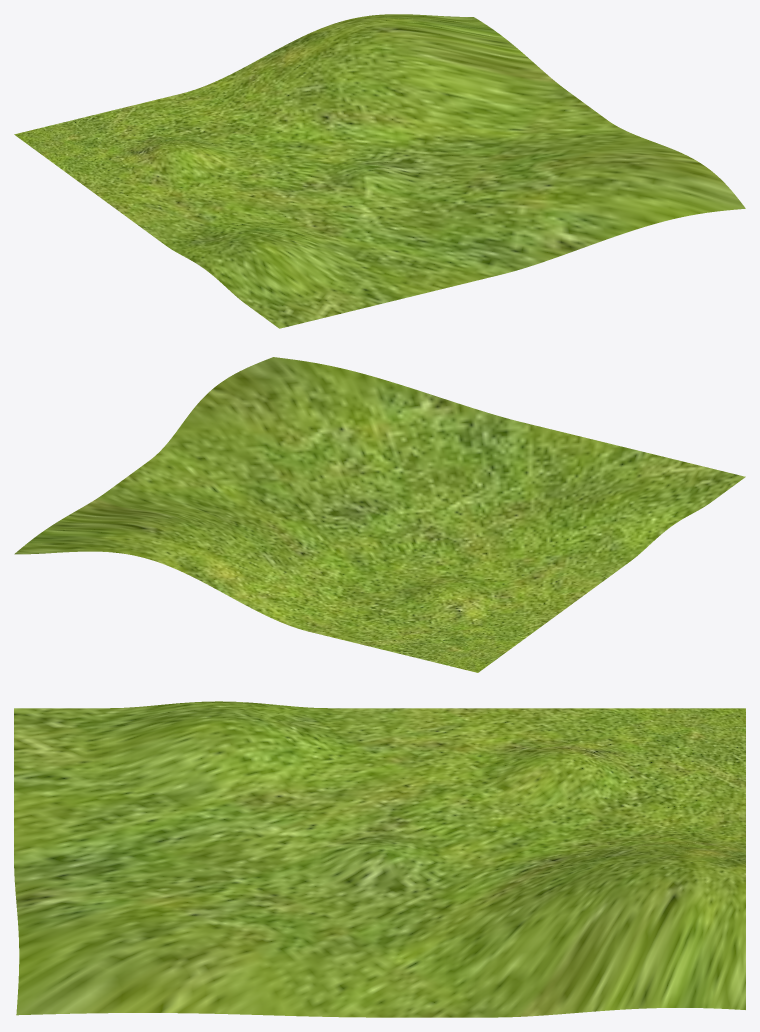
Rendered from landscape2.dae.
3 views of the same model, one above another, from view 1: azimuth 30°, elevation 25°; view 2: azimuth 150°, elevation 25°; view 3: azimuth 270°, elevation 25° (orthographic). The views are drawn at different scales.
Parts seen in each view (by area): view 1: Grid; view 2: Grid; view 3: Grid.
Part boxes in pixels (box(x1,y1,x2,y2)): Grid: box(14, 14, 745, 328); Grid: box(14, 357, 745, 672); Grid: box(14, 701, 745, 1017).
Size of the model in its own units: 103 by 100 by 8.12.
Materials: 1 (1 with a texture image).
